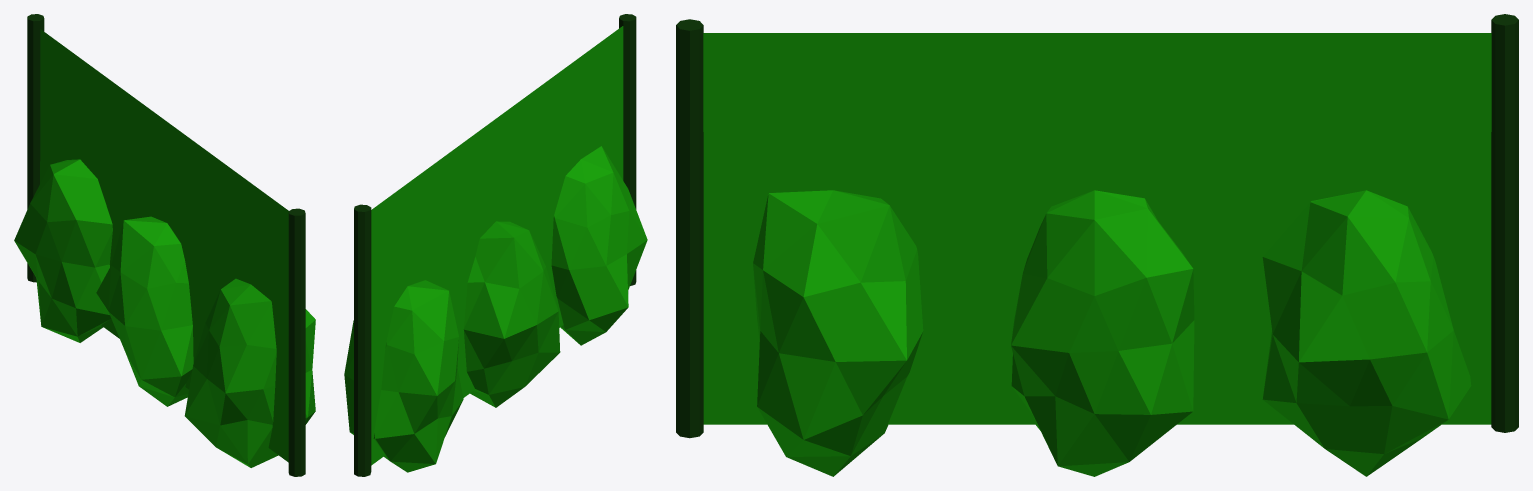
Rendered from VisioFence.fbx.
The picture shows the model from 3 angles, left to right: view 1: azimuth 30°, elevation 25°; view 2: azimuth 150°, elevation 25°; view 3: azimuth 270°, elevation 25°; orthographic projection. The views are drawn at different scales.
Parts seen in each view (by area): view 1: Cube, BushL, BushM, BushR, Cube.002, Cube.001; view 2: Cube, BushR, BushM, BushL, Cube.001, Cube.002; view 3: Cube, BushR, BushM, BushL, Cube.001, Cube.002.
Boxes of the visible parts, x1,y1,x2,y2 form: Cube: (40,29,288,462); BushL: (184,278,315,467); BushM: (96,216,193,406); BushR: (14,159,112,342); Cube.002: (288,208,305,476); Cube.001: (27,14,44,282); Cube: (371,26,623,465); BushR: (344,280,463,472); BushM: (463,221,560,407); BushL: (551,146,647,345); Cube.001: (354,204,371,476); Cube.002: (619,14,636,285); Cube: (703,33,1491,424); BushR: (1262,190,1471,476); BushM: (1011,190,1194,476); BushL: (753,190,924,476); Cube.001: (1491,14,1518,432); Cube.002: (676,19,703,438).
Size of the model in its own units: 23.55 by 58.58 by 97.87.
